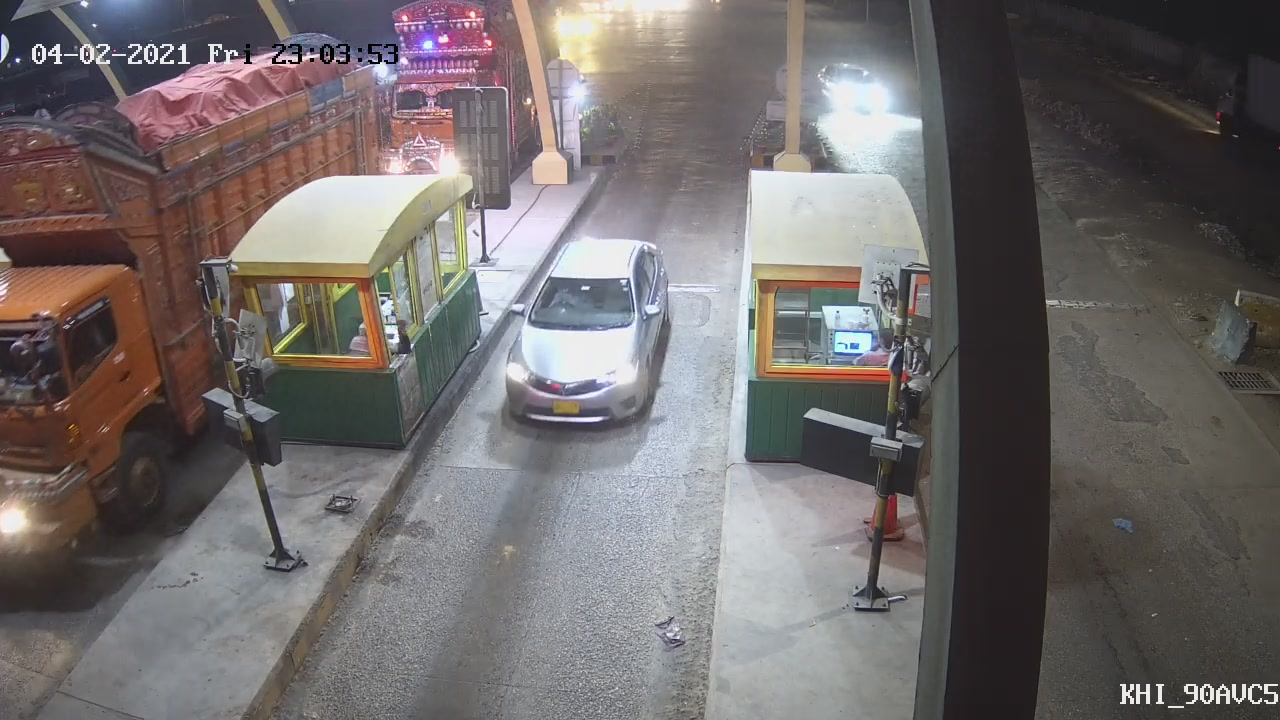F1: (496, 233, 681, 432)
